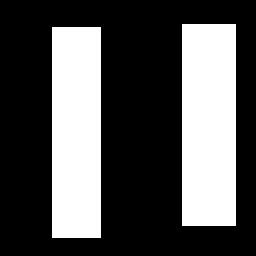person: (182, 24, 235, 225), (52, 27, 100, 237)
